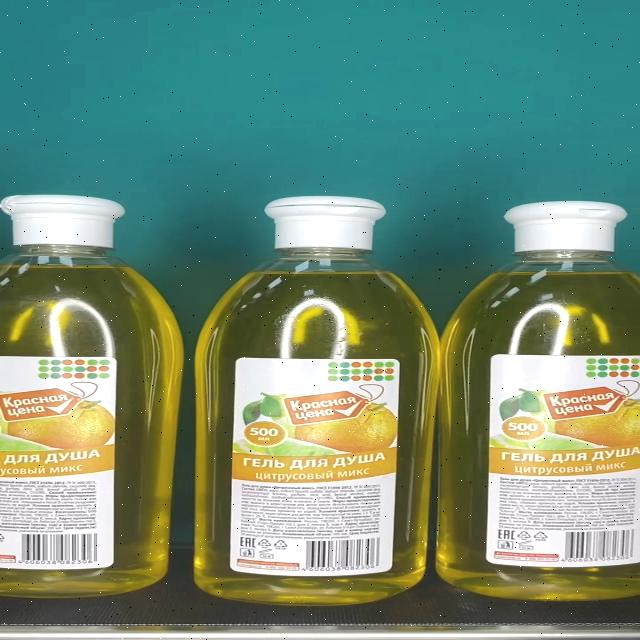Bottle: (194, 195, 443, 606), (435, 200, 640, 600), (0, 194, 186, 598)
Cap: (503, 201, 628, 254), (0, 194, 124, 247), (262, 196, 385, 249)
